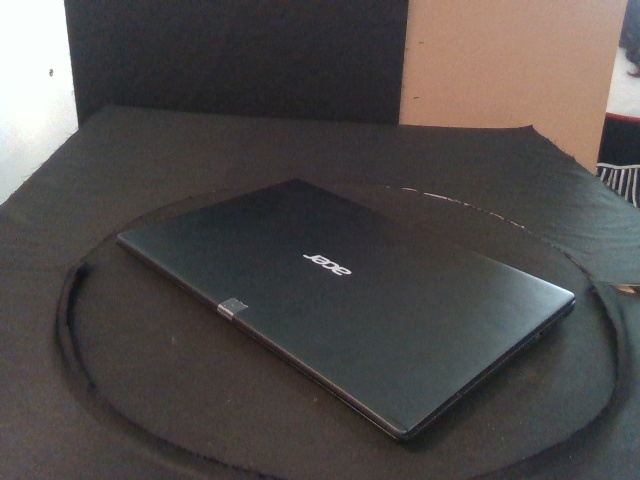laptop: (116, 177, 575, 448)
